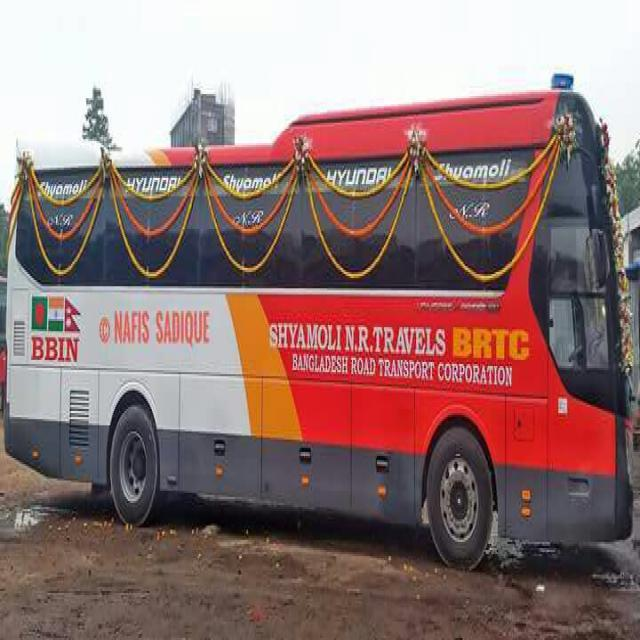bus: (4, 87, 633, 573)
